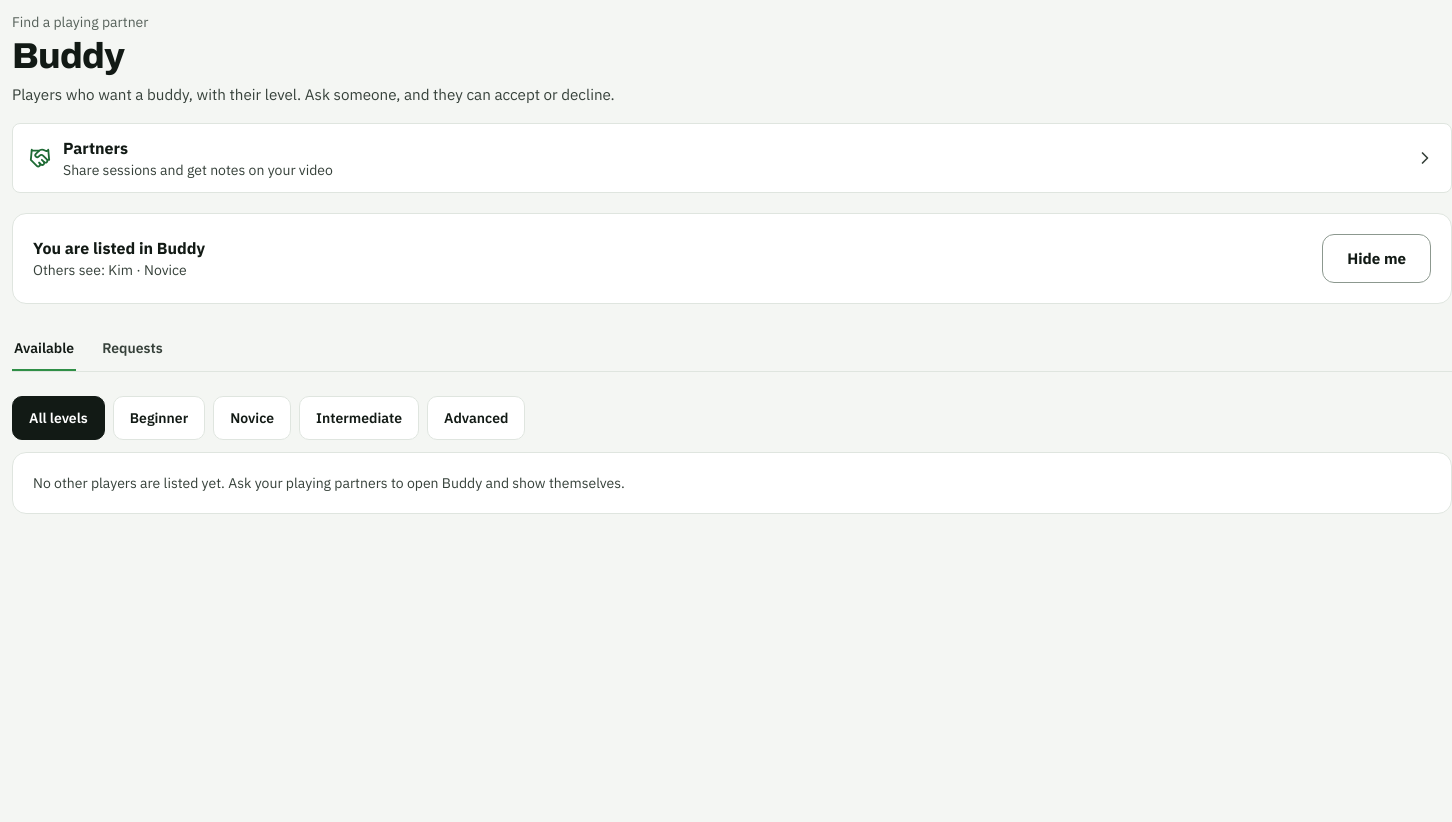
Buddy › shows when the other player cancelled, with or without a reason
Click the tab "Requests": (132, 350) [100,328,165,372]
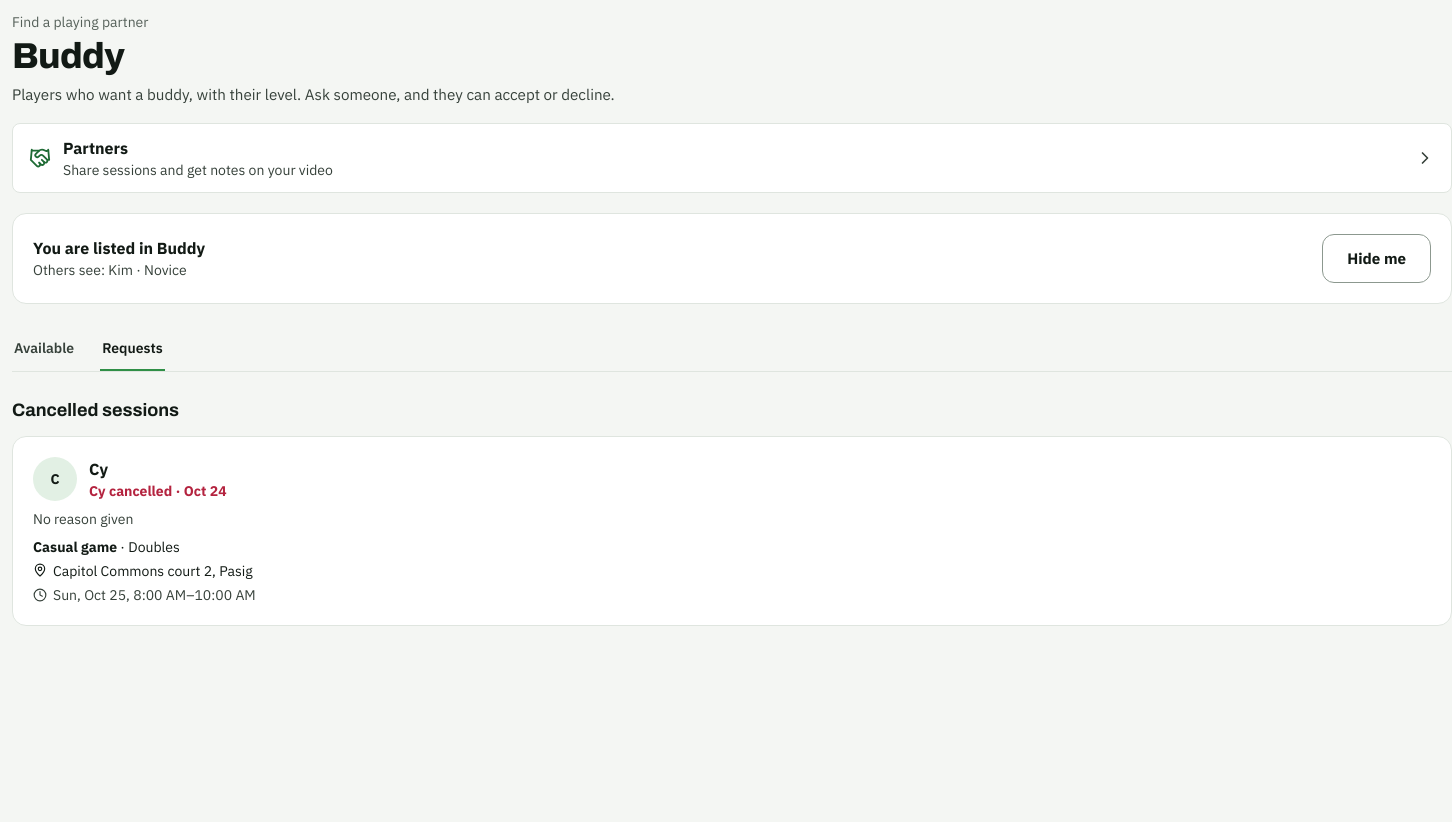
Now the text "Cy cancelled · Oct 24" is shown, box [89,481,227,501]
Now the text "No reason given" is shown, box [33,510,134,528]
